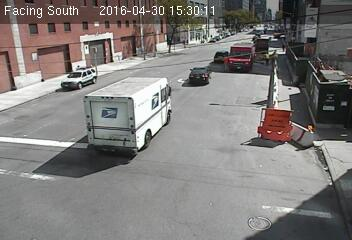neg: (152, 92, 171, 117), (112, 90, 122, 104)
pos: (260, 52, 271, 67), (279, 41, 287, 52)
